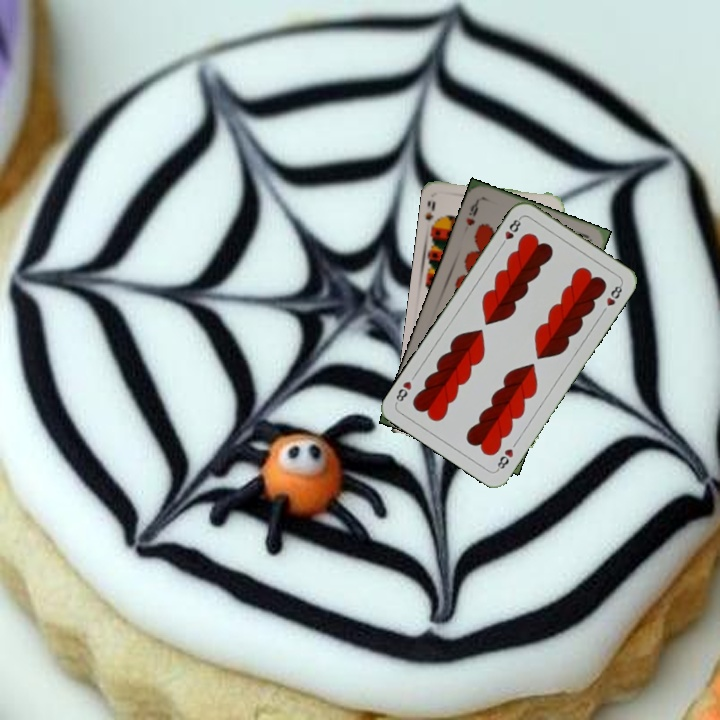H8: (497, 213, 524, 250), (493, 444, 516, 473)
H9: (462, 197, 482, 228)
S9: (421, 197, 441, 232)
